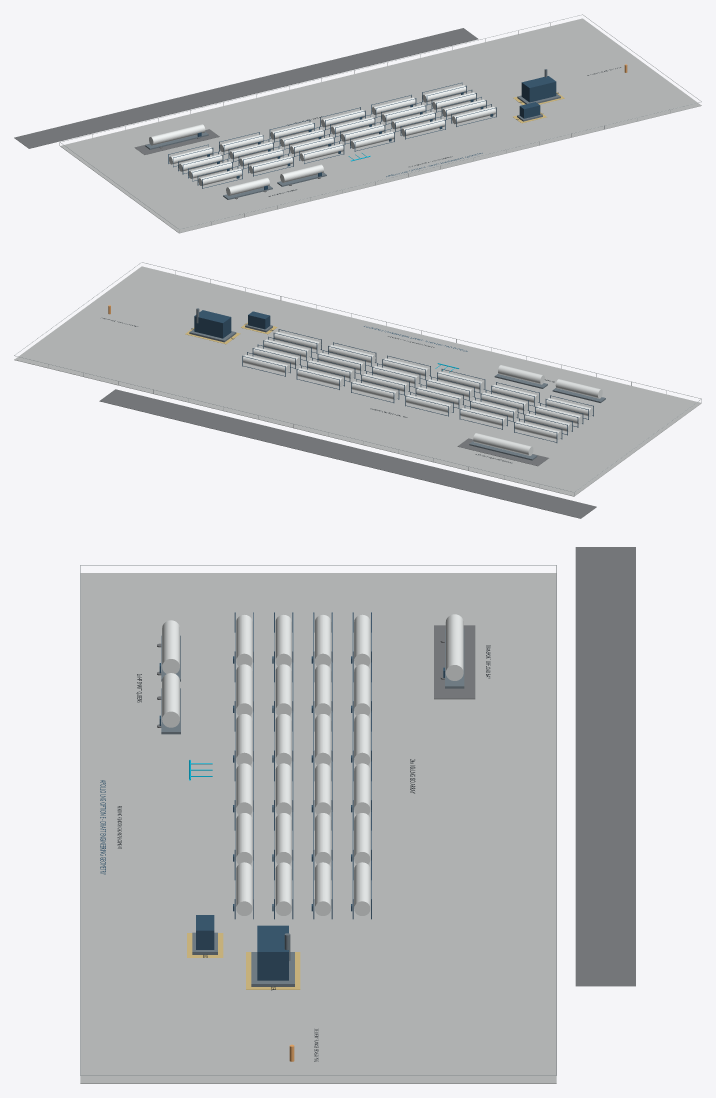
File: option-e.glb
3 views of the same model, one above another, from view 1: azimuth 30°, elevation 25°; view 2: azimuth 150°, elevation 25°; view 3: azimuth 270°, elevation 25° (orthographic). The views are drawn at different scales.
Parts seen in each view (by area): view 1: Draft engineering concrete site pad, Access road and turning apron, vaporizer vaporizer skid package enclosure, transportOffload LNG transport offload pressure vessel, Security fence south, Security fence north, transportOffload transport offload bay pavement, queens HP Smart Queen 1 pressure vessel, queens HP Smart Queen 2 pressure vessel, ISO iso_03 insulated LNG vessel, ISO iso_16 insulated LNG vessel, ISO iso_19 insulated LNG vessel (+21 smaller); view 2: Draft engineering concrete site pad, Access road and turning apron, vaporizer vaporizer skid package enclosure, transportOffload LNG transport offload pressure vessel, Security fence north, Security fence south, transportOffload transport offload bay pavement, queens HP Smart Queen 1 pressure vessel, queens HP Smart Queen 2 pressure vessel, ISO iso_07 insulated LNG vessel, ISO iso_21 insulated LNG vessel, ISO iso_14 insulated LNG vessel (+21 smaller); view 3: Draft engineering concrete site pad, Access road and turning apron, transportOffload transport offload bay pavement, vaporizer vaporizer skid package enclosure, transportOffload LNG transport offload pressure vessel, queens HP Smart Queen 2 pressure vessel, queens HP Smart Queen 1 pressure vessel, ISO iso_05 insulated LNG vessel, ISO iso_11 insulated LNG vessel, ISO iso_17 insulated LNG vessel, ISO iso_23 insulated LNG vessel, ISO iso_07 insulated LNG vessel (+19 smaller).
Part boxes in pixels (bbox=[...]): Draft engineering concrete site pad: bbox=[60, 18, 701, 233]; Access road and turning apron: bbox=[14, 28, 478, 148]; vaporizer vaporizer skid package enclosure: bbox=[521, 76, 556, 102]; transportOffload LNG transport offload pressure vessel: bbox=[149, 124, 205, 145]; Security fence south: bbox=[179, 101, 701, 229]; Security fence north: bbox=[61, 14, 582, 141]; transportOffload transport offload bay pavement: bbox=[134, 129, 219, 154]; queens HP Smart Queen 1 pressure vessel: bbox=[226, 177, 269, 195]; queens HP Smart Queen 2 pressure vessel: bbox=[280, 164, 323, 182]; ISO iso_03 insulated LNG vessel: bbox=[350, 131, 394, 148]; ISO iso_16 insulated LNG vessel: bbox=[381, 104, 425, 122]; ISO iso_19 insulated LNG vessel: bbox=[219, 134, 263, 151]; Draft engineering concrete site pad: bbox=[14, 266, 701, 496]; Access road and turning apron: bbox=[99, 389, 596, 518]; vaporizer vaporizer skid package enclosure: bbox=[194, 310, 231, 338]; transportOffload LNG transport offload pressure vessel: bbox=[473, 433, 533, 455]; Security fence north: bbox=[14, 355, 573, 492]; Security fence south: bbox=[142, 262, 701, 398]; transportOffload transport offload bay pavement: bbox=[457, 438, 548, 466]; queens HP Smart Queen 1 pressure vessel: bbox=[555, 379, 602, 398]; queens HP Smart Queen 2 pressure vessel: bbox=[498, 365, 544, 384]; ISO iso_07 insulated LNG vessel: bbox=[481, 392, 528, 411]; ISO iso_21 insulated LNG vessel: bbox=[351, 381, 398, 400]; ISO iso_14 insulated LNG vessel: bbox=[416, 387, 463, 405]; Draft engineering concrete site pad: bbox=[80, 573, 556, 1083]; Access road and turning apron: bbox=[575, 547, 635, 986]; transportOffload transport offload bay pavement: bbox=[434, 625, 475, 699]; vaporizer vaporizer skid package enclosure: bbox=[257, 925, 288, 980]; transportOffload LNG transport offload pressure vessel: bbox=[445, 614, 463, 680]; queens HP Smart Queen 2 pressure vessel: bbox=[162, 673, 179, 727]; queens HP Smart Queen 1 pressure vessel: bbox=[162, 620, 179, 673]; ISO iso_05 insulated LNG vessel: bbox=[236, 862, 252, 915]; ISO iso_11 insulated LNG vessel: bbox=[275, 862, 291, 915]; ISO iso_17 insulated LNG vessel: bbox=[315, 862, 331, 915]; ISO iso_23 insulated LNG vessel: bbox=[354, 862, 370, 915]; ISO iso_07 insulated LNG vessel: bbox=[275, 664, 291, 715].
Size of the model in its own units: 168 by 7 by 73.59.
